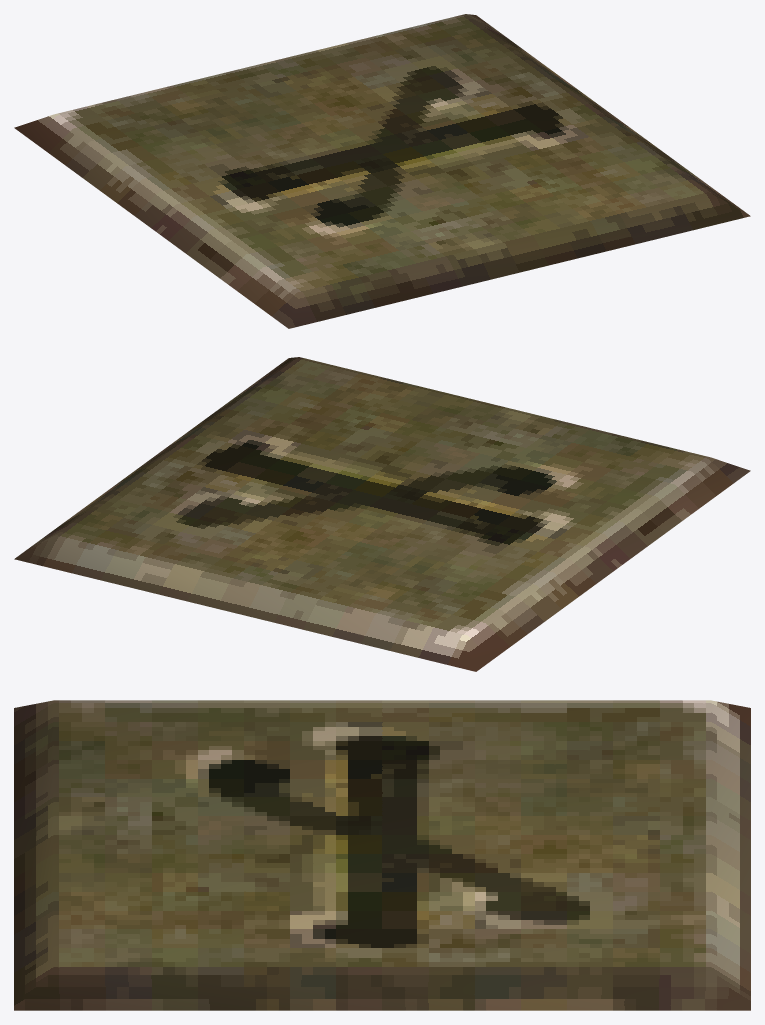
Rendered from EREBOR_RUNE_PZL_EREBOR_PZL_TILE_STATIC47.fbx.
The picture shows the model from 3 angles, top to bottom: view 1: azimuth 30°, elevation 25°; view 2: azimuth 150°, elevation 25°; view 3: azimuth 270°, elevation 25°; orthographic projection. The views are drawn at different scales.
Parts seen in each view (by area): view 1: EREBOR_RUNE_PZL_EREBOR_PZL_TILE_STATIC47; view 2: EREBOR_RUNE_PZL_EREBOR_PZL_TILE_STATIC47; view 3: EREBOR_RUNE_PZL_EREBOR_PZL_TILE_STATIC47.
Boxes of the visible parts, x1,y1,x2,y2 form: EREBOR_RUNE_PZL_EREBOR_PZL_TILE_STATIC47: (14, 14, 750, 328); EREBOR_RUNE_PZL_EREBOR_PZL_TILE_STATIC47: (14, 357, 750, 671); EREBOR_RUNE_PZL_EREBOR_PZL_TILE_STATIC47: (14, 700, 750, 1010).
Bounding box in the file's own units: 9945 × 370 × 10241.
1 material, 1 textured.
